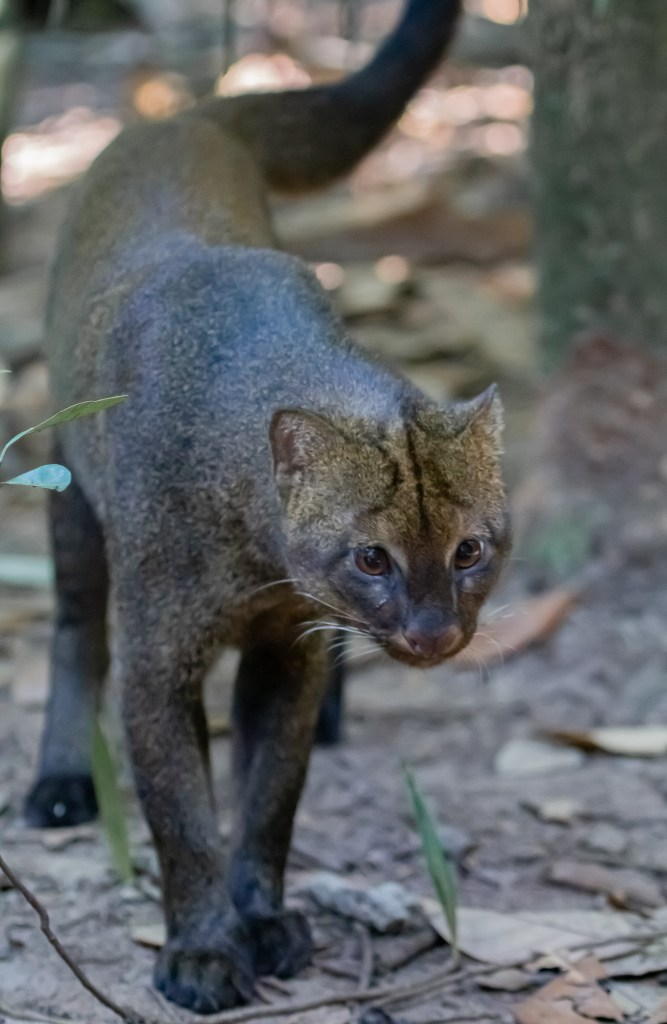Jaguarundi: (47, 26, 523, 1004)
